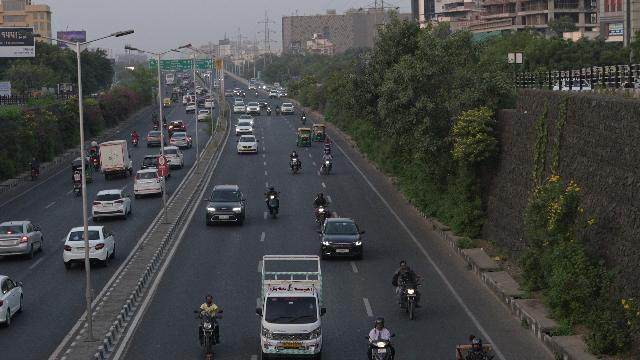With Helmet: (374, 316, 384, 332), (472, 338, 482, 352), (268, 186, 274, 192), (318, 193, 322, 199), (325, 150, 329, 156)
Without Helmet: (468, 335, 476, 345), (399, 261, 407, 270), (205, 295, 212, 304), (404, 266, 410, 274)
